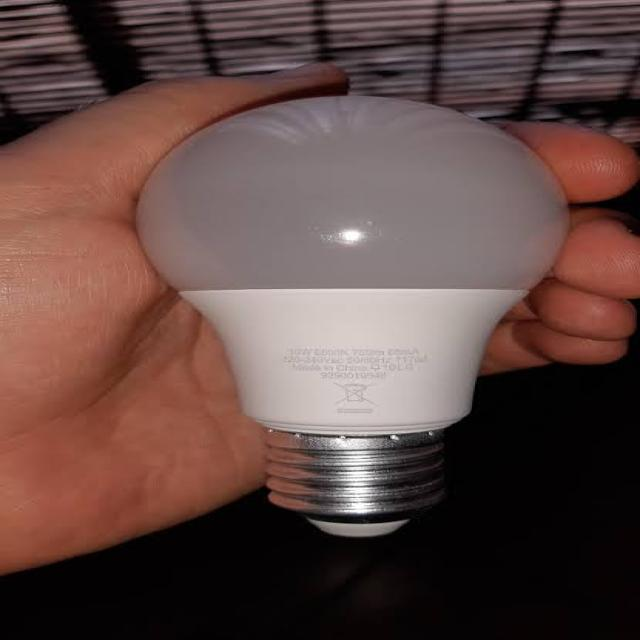bulb: (83, 96, 564, 534)
